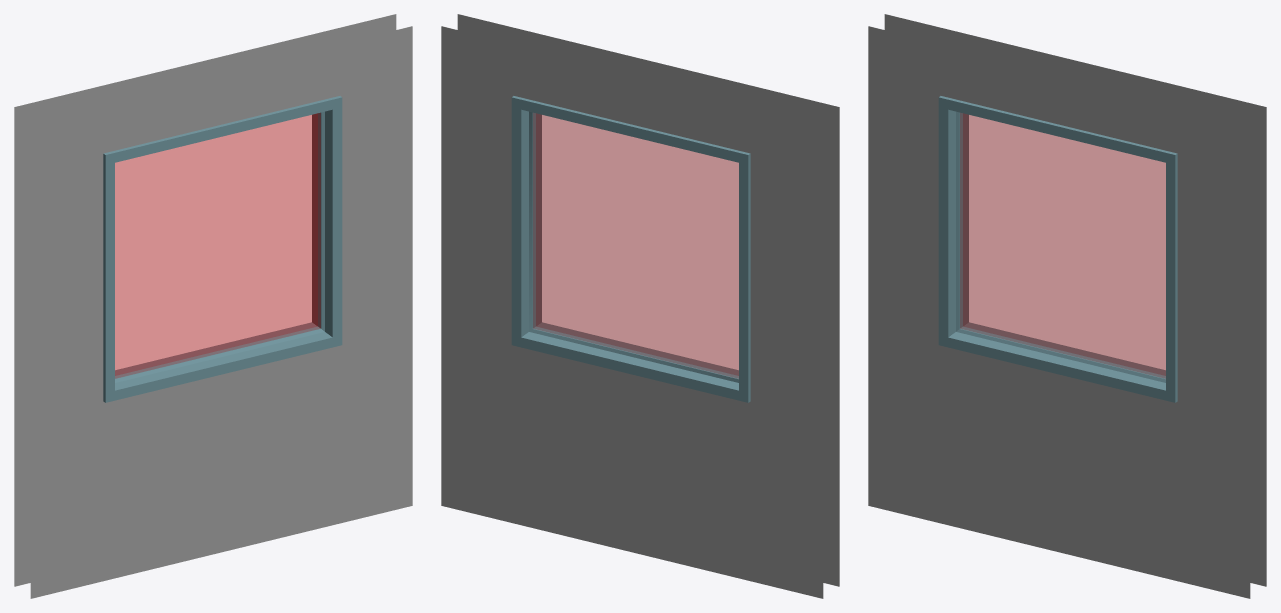
Rendered from 15Wall200x240-Window120x120.fbx.
The picture shows the model from 3 angles, left to right: view 1: azimuth 30°, elevation 25°; view 2: azimuth 150°, elevation 25°; view 3: azimuth 330°, elevation 25°; orthographic projection.
Parts seen in each view (by area): view 1: outdoorWall, WindowGlass, windowFrame, indoorWall; view 2: indoorWall, WindowGlass, windowFrame, outdoorWall; view 3: outdoorWall, WindowGlass, windowFrame, indoorWall.
Boxes of the visible parts, <box> form: outdoorWall: <box>30,26,412,598</box>; WindowGlass: <box>115,113,320,378</box>; windowFrame: <box>103,96,342,402</box>; indoorWall: <box>14,14,396,586</box>; indoorWall: <box>441,26,823,598</box>; WindowGlass: <box>533,113,738,378</box>; windowFrame: <box>511,96,750,402</box>; outdoorWall: <box>457,14,839,586</box>; outdoorWall: <box>868,26,1250,598</box>; WindowGlass: <box>960,113,1165,378</box>; windowFrame: <box>938,96,1177,402</box>; indoorWall: <box>884,14,1266,586</box>.
Bounding box in the file's own units: 2 × 2.4 × 0.1889.
